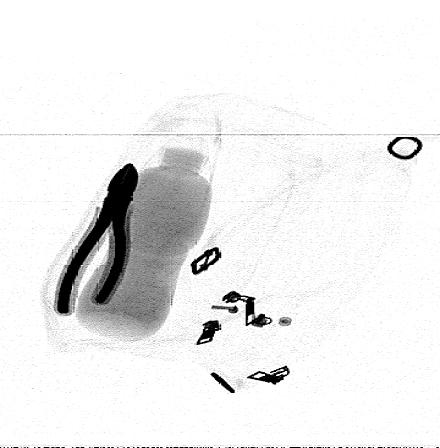Pliers: (55, 162, 140, 316)
